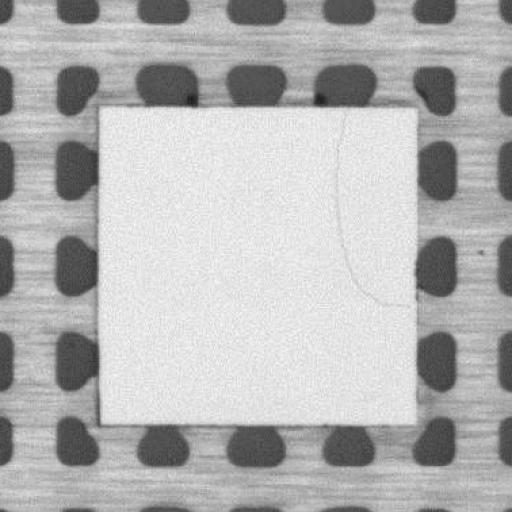DIE_CRACK: (334, 107, 410, 308)
